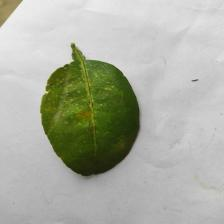greening: (56, 81, 124, 145)
